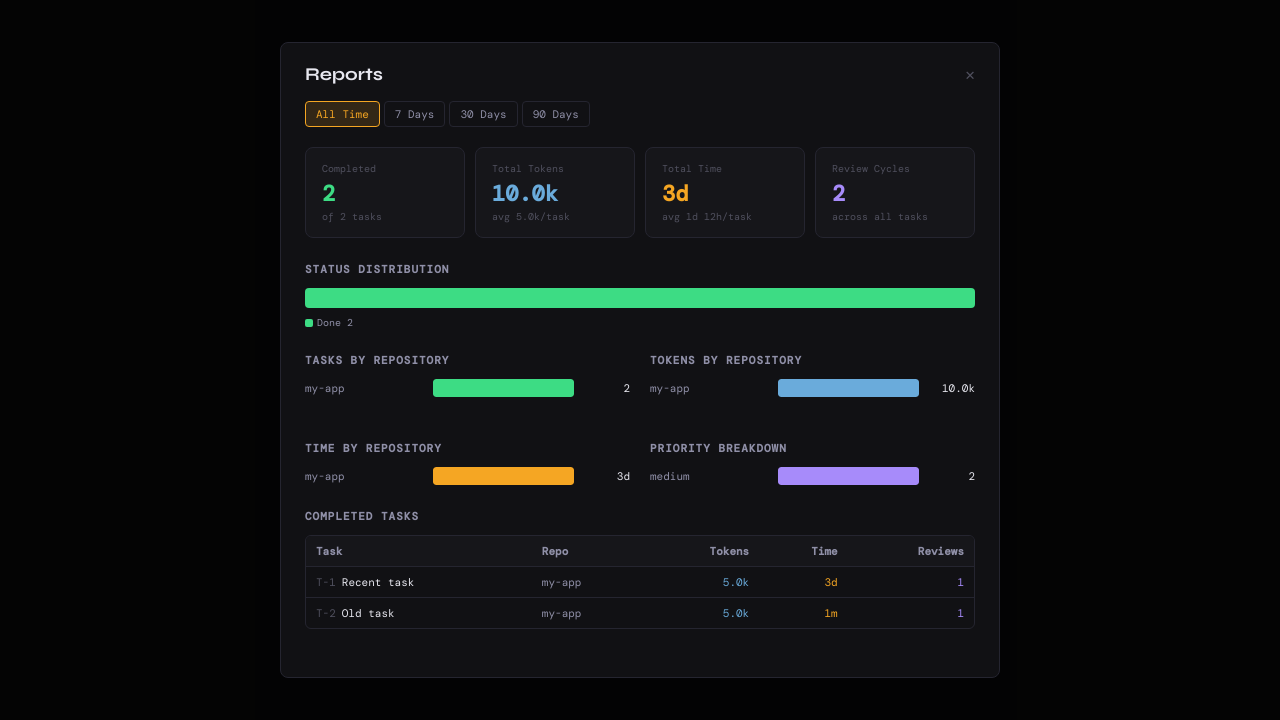
Test: ReportsModal › filters tasks by time period
expect the text "of 2 tasks" is shown: met, box [322,210,382,223]
# Switch to 7 Days
Click the button "7 Days".
click(415, 114)  # box [384,101,445,127]
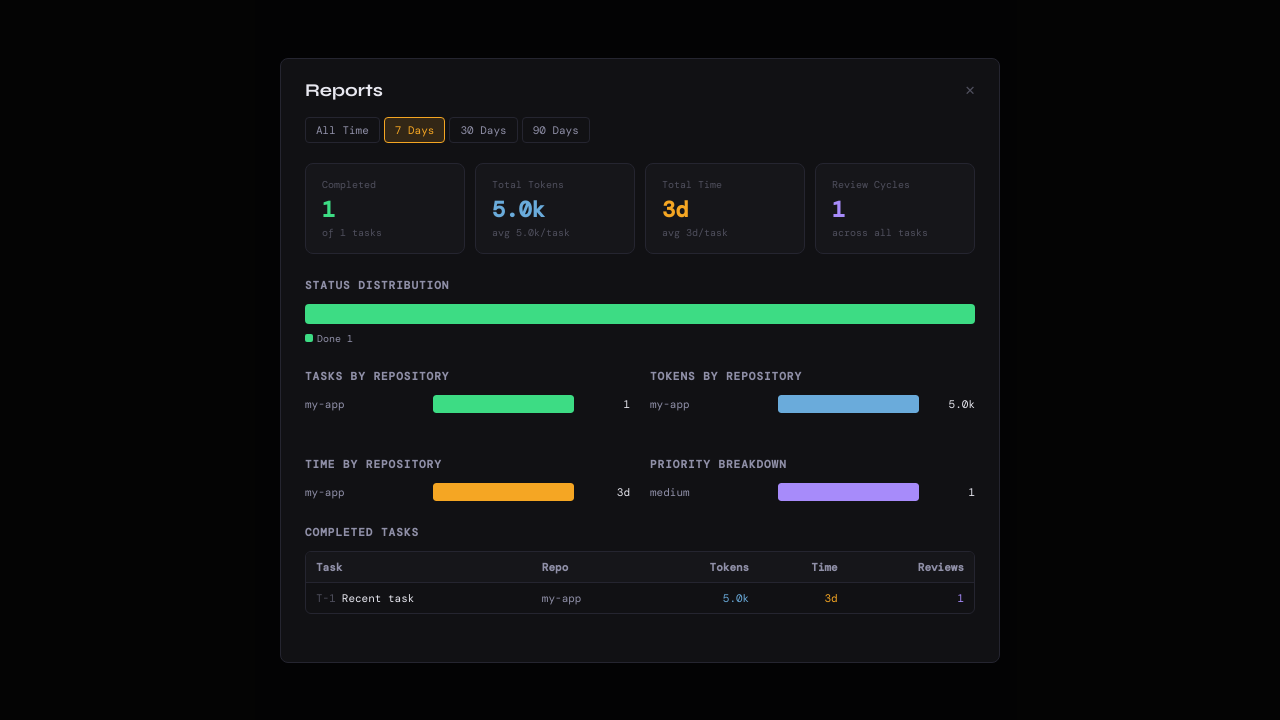
expect the text "of 1 tasks" is shown: met, box [322,226,382,238]
